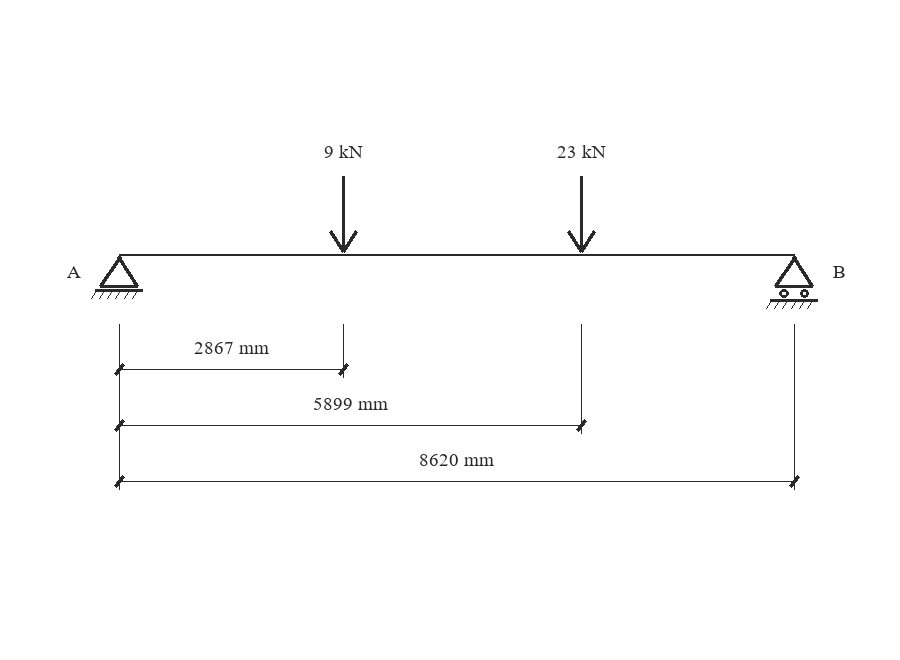pin_support: (91, 256, 143, 299)
point_load: (329, 176, 358, 253), (567, 176, 596, 253)
roller_support: (766, 256, 818, 309)
